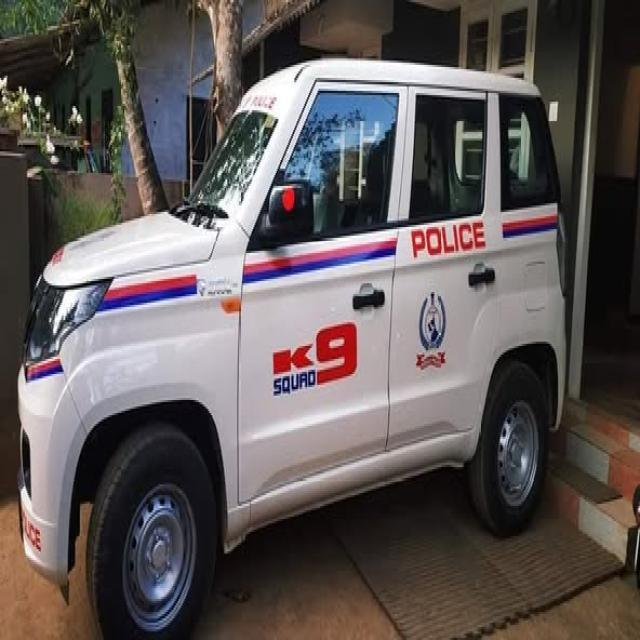Ambulance: (11, 48, 576, 636), (617, 480, 639, 592)
